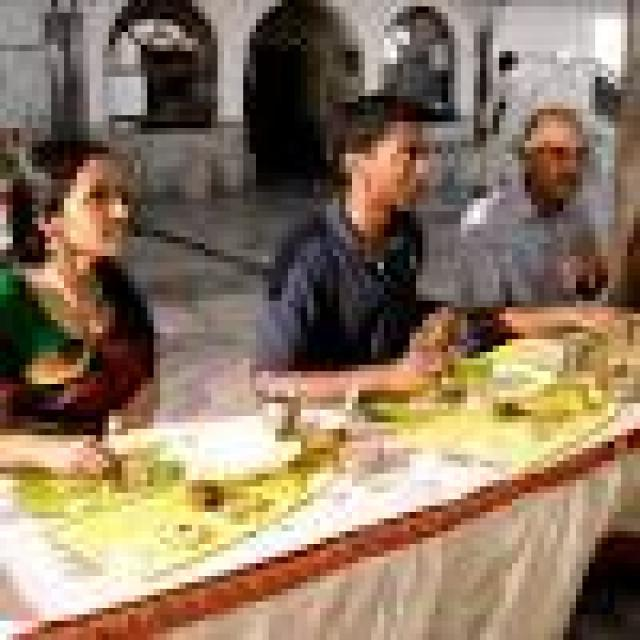pickle: (513, 104, 606, 213)
sweet: (3, 325, 126, 428)
